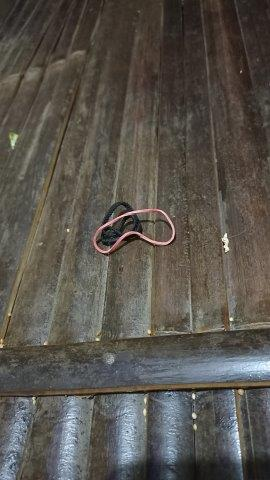karet: (93, 201, 177, 254)
